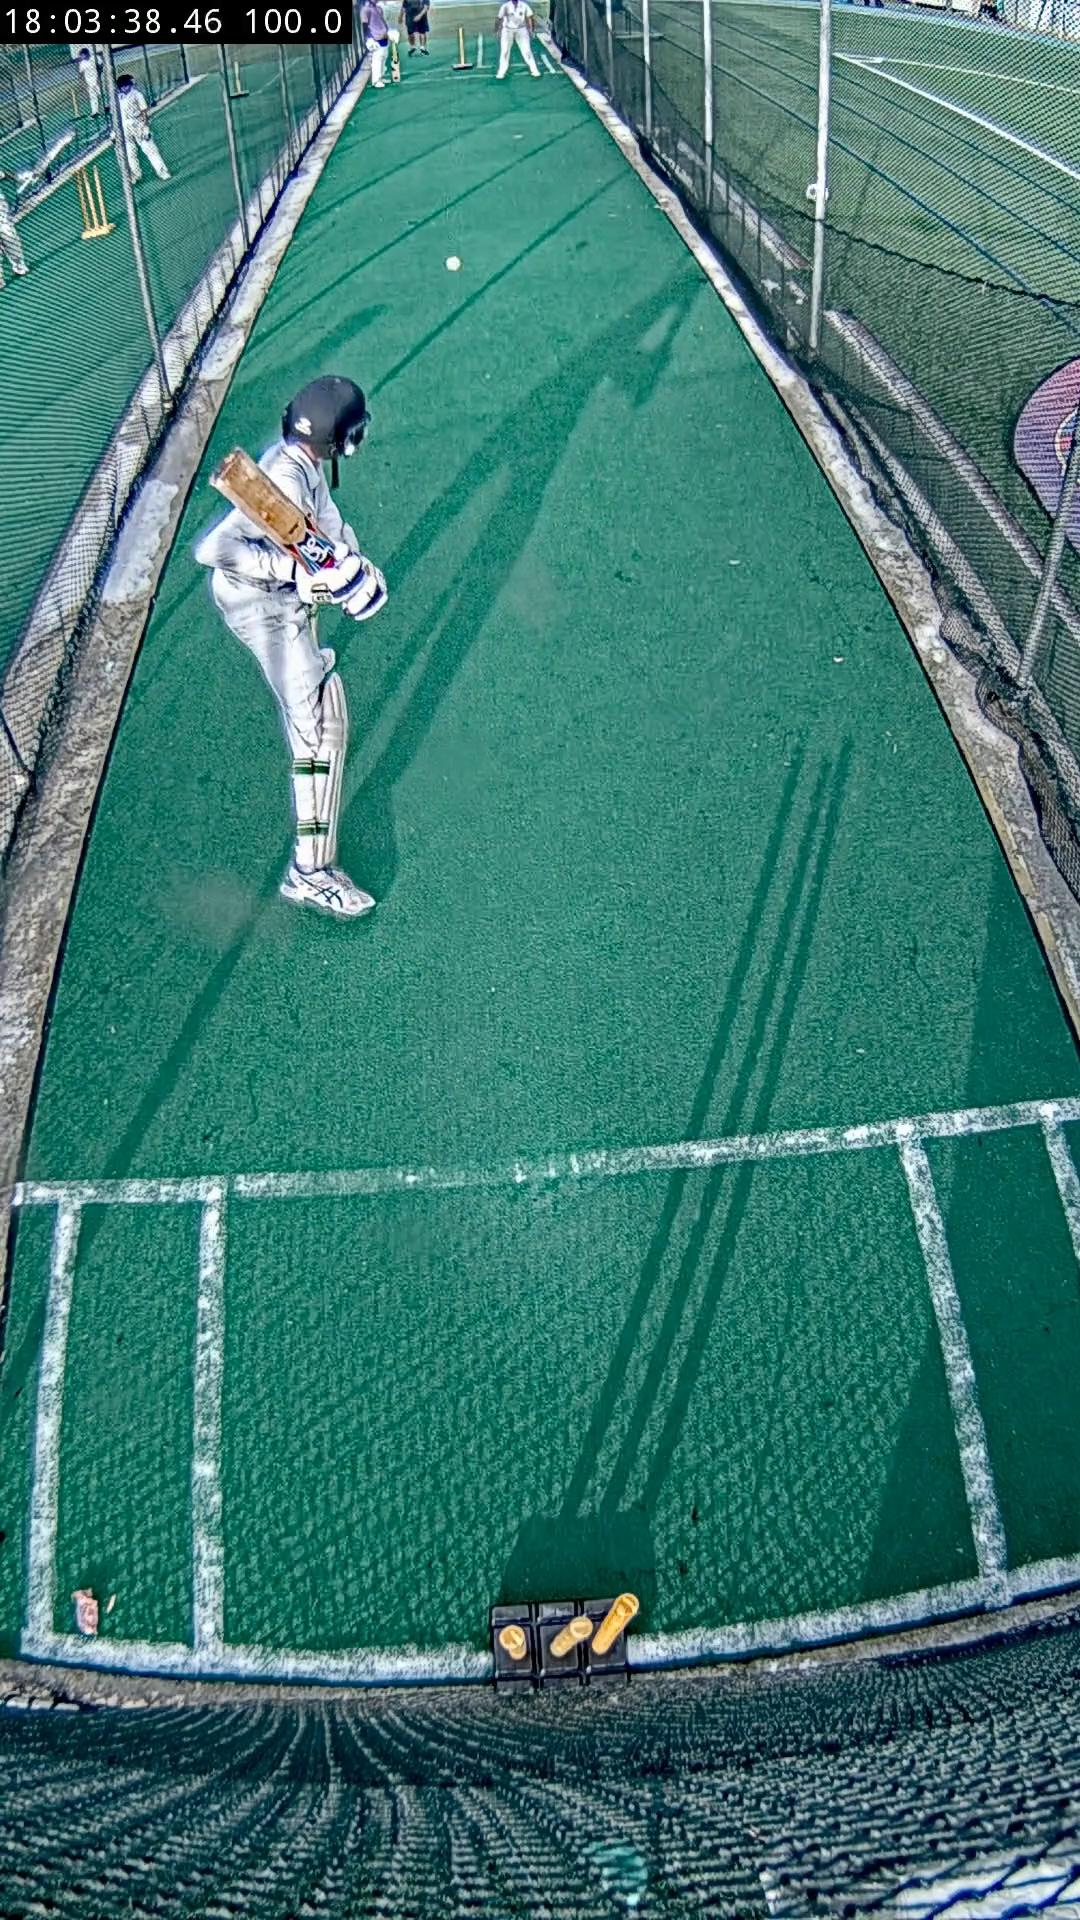ball: (446, 255, 462, 270)
bat: (210, 446, 338, 572)
gloves: (297, 551, 386, 618)
helmet: (281, 375, 372, 459)
pads: (315, 671, 348, 864)
stumps: (492, 1594, 641, 1695)
